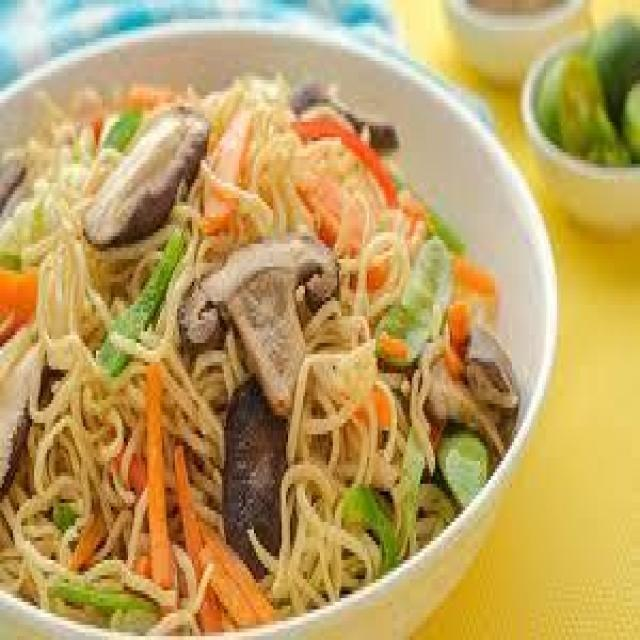pancit bihon: (0, 73, 503, 605)
